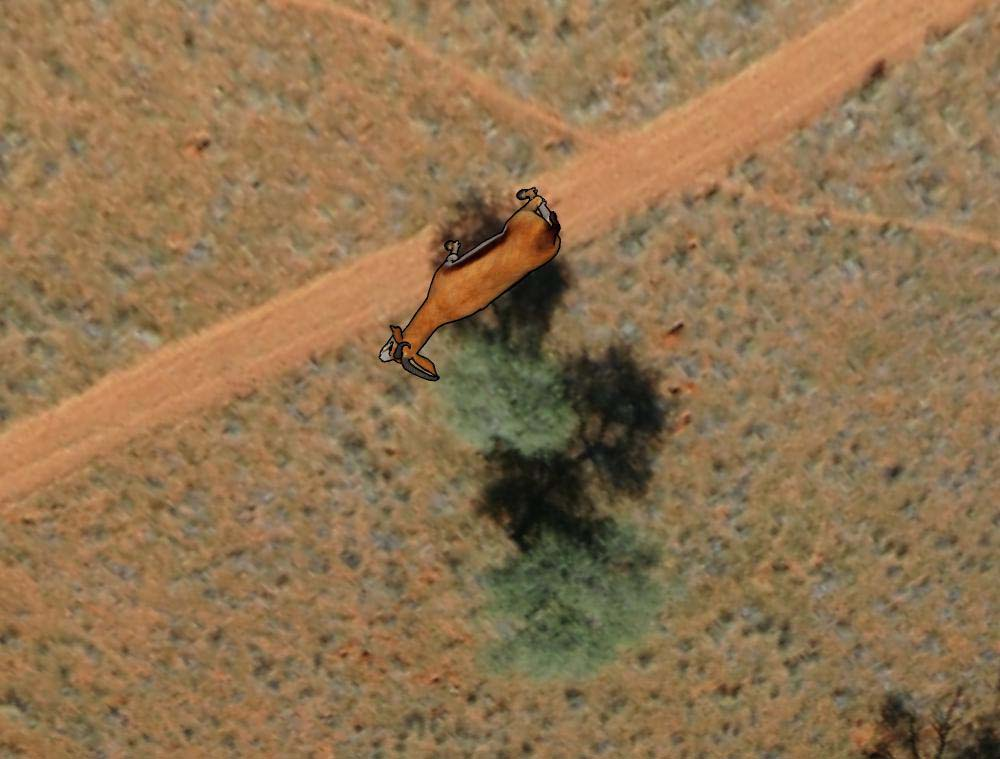springbok: (379, 182, 564, 386)
